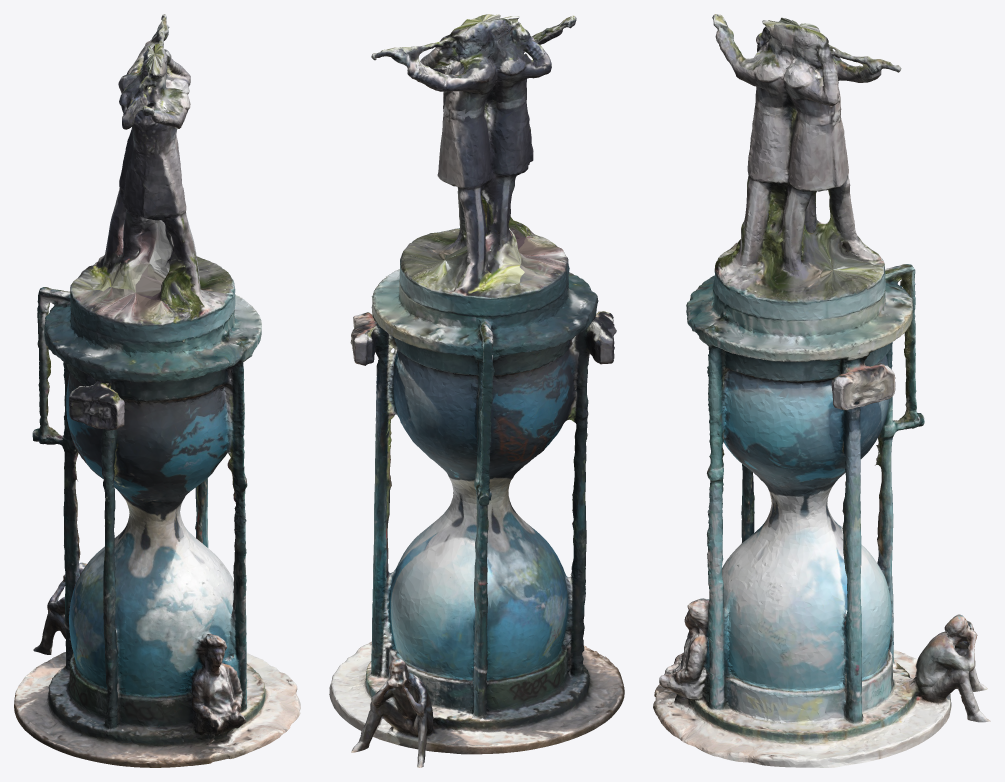
The picture shows the model from 3 angles, left to right: view 1: azimuth 30°, elevation 25°; view 2: azimuth 150°, elevation 25°; view 3: azimuth 270°, elevation 25°; orthographic projection. The views are drawn at different scales.
Visible parts, largest first — view 1: 2k.50k; view 2: 2k.50k; view 3: 2k.50k.
Part boxes in pixels (left/top/right/bottom): 2k.50k: left=14, top=14, right=300, bottom=767; 2k.50k: left=329, top=14, right=624, bottom=767; 2k.50k: left=653, top=14, right=990, bottom=767.
Size of the model in its own units: 0.418 by 1.06 by 0.4762.
Materials: 1 (1 with a texture image).
